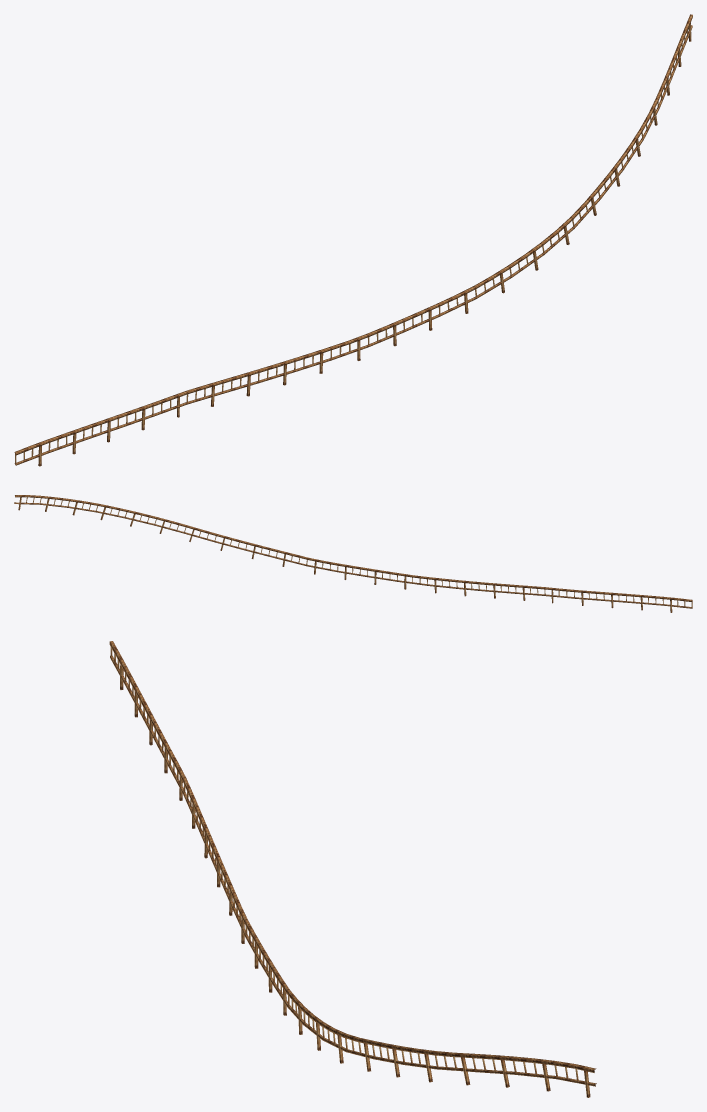
The model's file is bridge_fence_a.glb.
The picture shows the model from 3 angles, top to bottom: view 1: azimuth 30°, elevation 25°; view 2: azimuth 150°, elevation 25°; view 3: azimuth 270°, elevation 25°; orthographic projection. The views are drawn at different scales.
Visible parts, largest first — view 1: dark-wall-wood.png__; view 2: dark-wall-wood.png__; view 3: dark-wall-wood.png__.
Part boxes in pixels (bbox=[...]): dark-wall-wood.png__: bbox=[14, 14, 692, 466]; dark-wall-wood.png__: bbox=[14, 495, 692, 612]; dark-wall-wood.png__: bbox=[109, 641, 596, 1097].
Size of the model in its own units: 83.37 by 12.08 by 31.58.
1 material, 1 textured.
